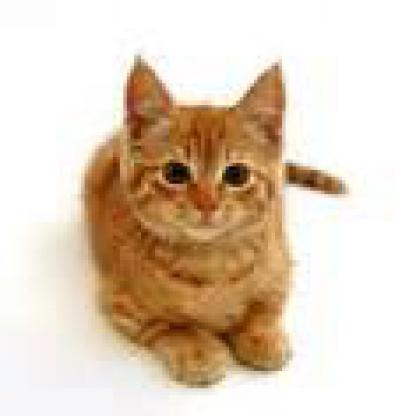cat: (81, 52, 349, 388)
